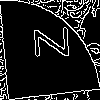Z: (24, 25, 70, 61)
